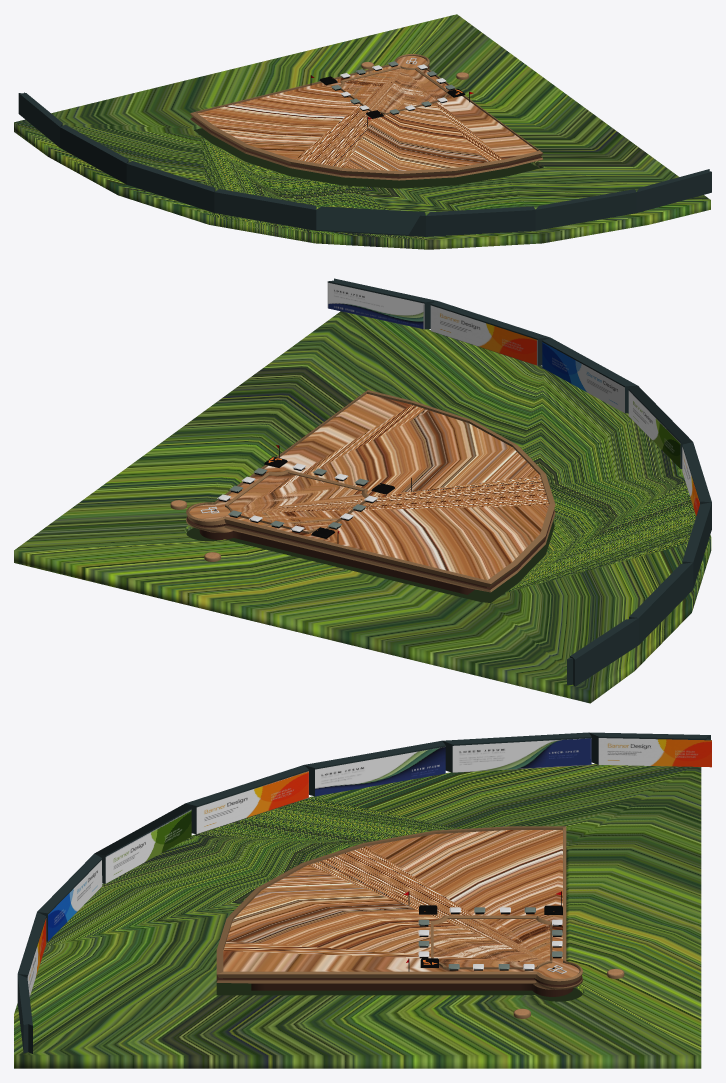
File: baseball.fbx
3 renders of one model, top to bottom at view 1: azimuth 30°, elevation 25°; view 2: azimuth 150°, elevation 25°; view 3: azimuth 270°, elevation 25°, orthographic. The views are drawn at different scales.
Visible parts, largest first — view 1: Cube.008, Cube.002, ads; view 2: Cube.008, Cube.002, ads, Cube.004; view 3: Cube.008, Cube.002, ads, Cube.004.
Boxes of the visible parts, <box> form: Cube.008: <box>14,14,710,249</box>; Cube.002: <box>190,54,543,180</box>; ads: <box>18,92,711,236</box>; Cube.008: <box>14,311,711,703</box>; Cube.002: <box>186,390,555,592</box>; ads: <box>327,278,711,686</box>; Cube.004: <box>199,529,474,594</box>; Cube.008: <box>14,763,701,1068</box>; Cube.002: <box>216,826,582,987</box>; ads: <box>17,732,711,1053</box>; Cube.004: <box>251,983,573,996</box>.
Size of what is drawn, in the model's own units: 294 by 21.55 by 292.
